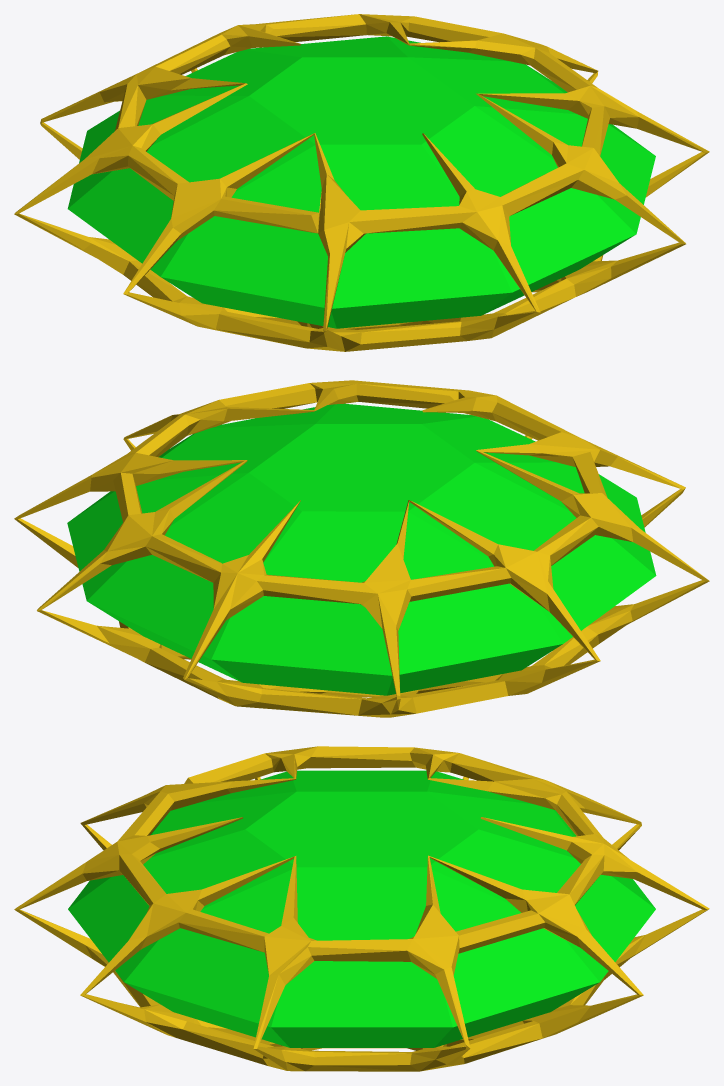
Rendered from Gema.fbx.
3 views of the same model, one above another, from view 1: azimuth 30°, elevation 25°; view 2: azimuth 150°, elevation 25°; view 3: azimuth 270°, elevation 25° (orthographic). The views are drawn at different scales.
Visible parts, largest first — view 1: Esmeralda Verde 2; view 2: Esmeralda Verde 2; view 3: Esmeralda Verde 2.
Boxes of the visible parts, x1,y1,x2,y2 form: Esmeralda Verde 2: (14,14,709,351); Esmeralda Verde 2: (14,380,709,717); Esmeralda Verde 2: (14,746,709,1071).
Bounding box in the file's own units: 6532 × 2114 × 6869.
